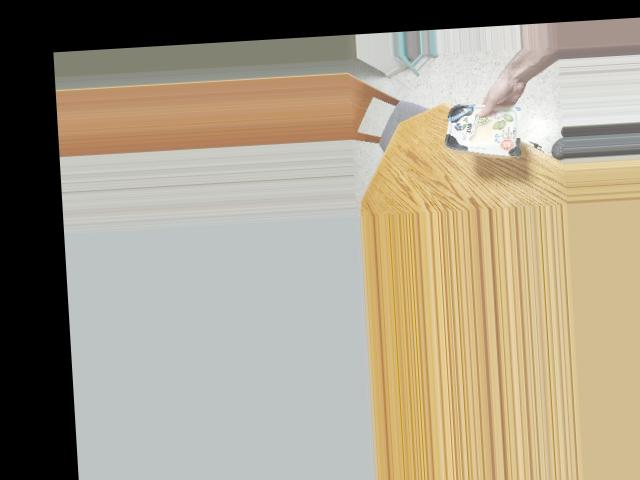cheese: (444, 103, 517, 152)
